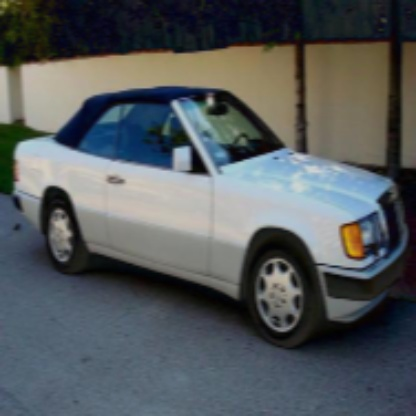Vehicle: (10, 82, 412, 354)
